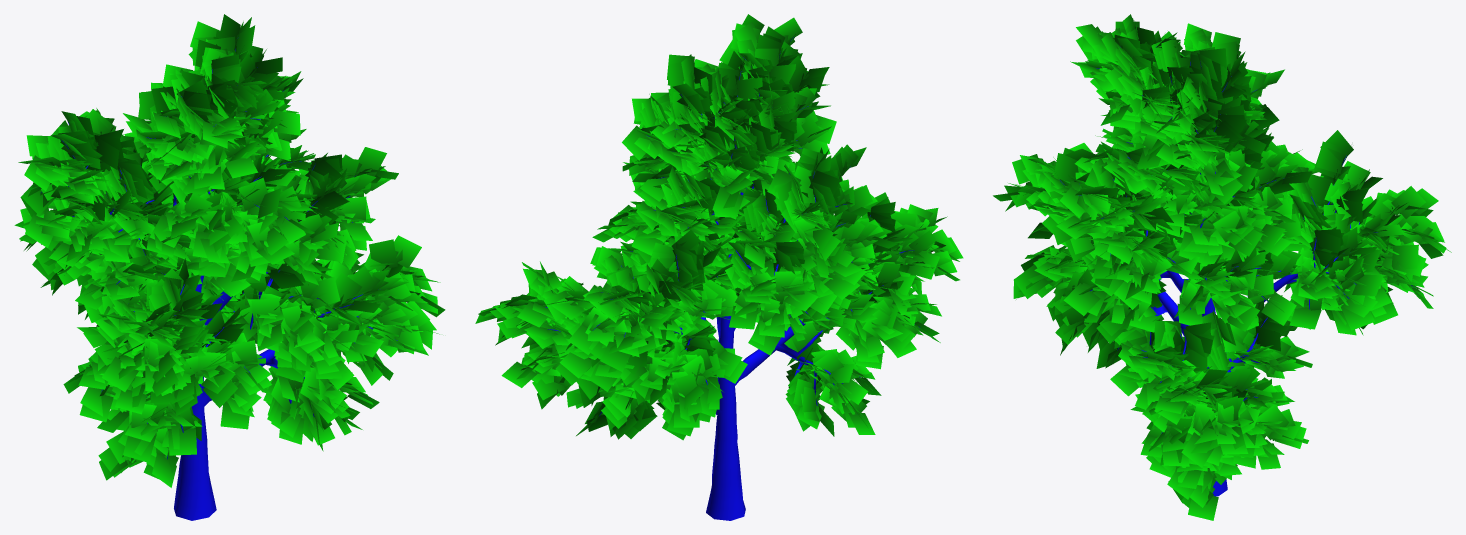
File: GiantTree3.fbx
3 views of the same model, side by side, from view 1: azimuth 30°, elevation 25°; view 2: azimuth 150°, elevation 25°; view 3: azimuth 270°, elevation 25° (orthographic). The views are drawn at different scales.
Parts seen in each view (by area): view 1: merge1; view 2: merge1; view 3: merge1.
Part boxes in pixels (bbox=[...]): merge1: bbox=[14, 14, 445, 520]; merge1: bbox=[475, 14, 963, 520]; merge1: bbox=[993, 14, 1451, 520].
Bounding box in the file's own units: 35.99 × 38.95 × 34.71.
